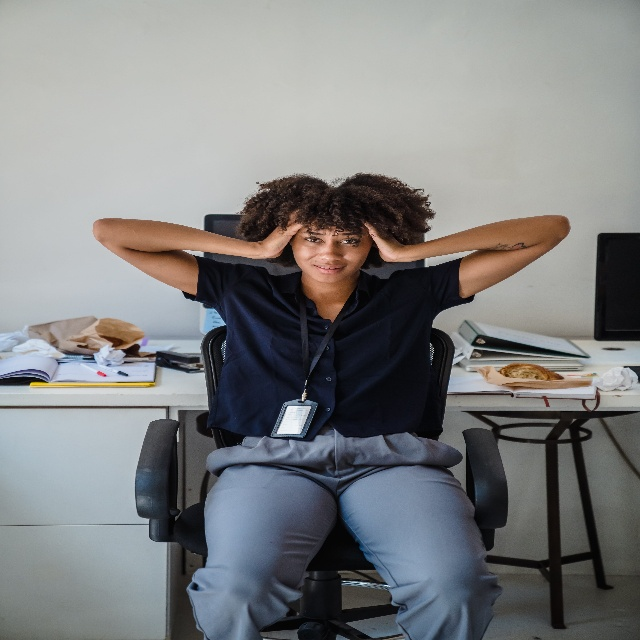Sin_guantes: (263, 204, 309, 260), (362, 217, 400, 262)
